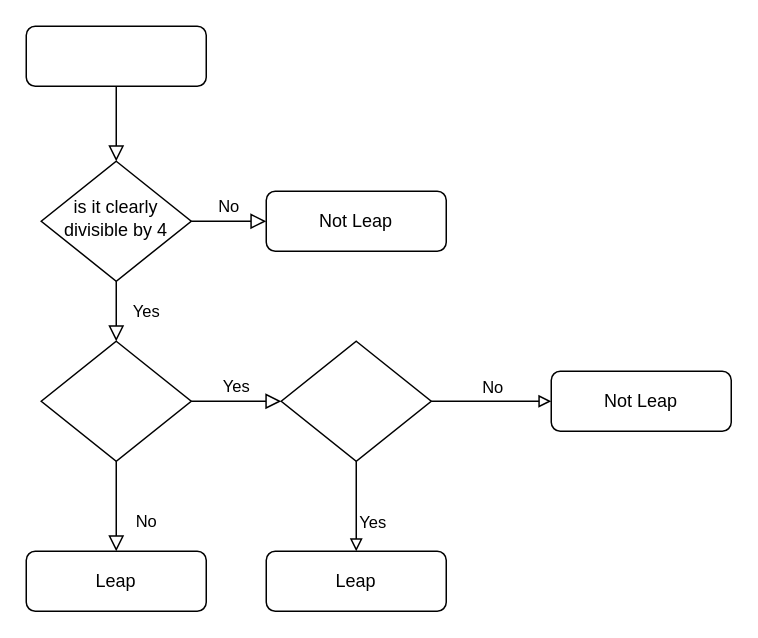
This 758x638 diagram has some shape labels left out. Each missing label, with the centre of its shape:
"is it clearly divisible by 100" goes at point (115, 400).
"is it clearly divisible by 200" goes at point (355, 400).
"Start" goes at point (115, 55).
